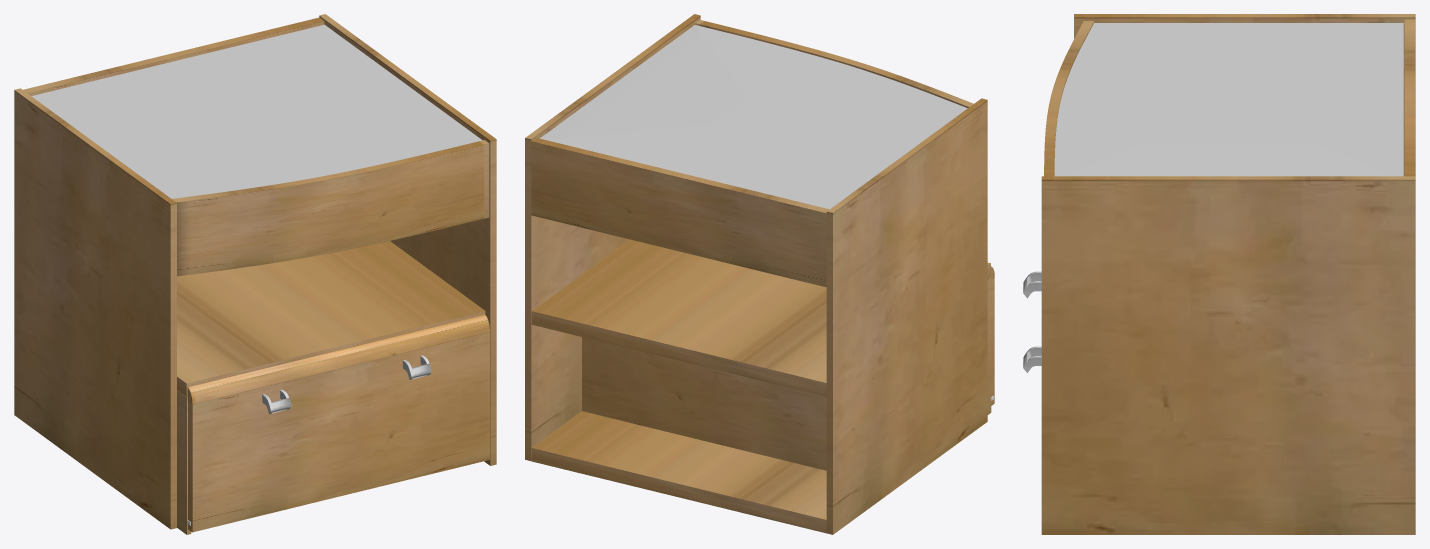
File: sh-contrib-table-basse.glb
3 renders of one model, left to right at view 1: azimuth 30°, elevation 25°; view 2: azimuth 150°, elevation 25°; view 3: azimuth 270°, elevation 25°, orthographic. The views are drawn at different scales.
Parts seen in each view (by area): view 1: Cube_1_1, Boolean_1_9, pOIGNEE_10; view 2: Cube_1_1, Boolean_1_9; view 3: Cube_1_1, Boolean_1_9, pOIGNEE_10.
Part boxes in pixels (x1,y1,x2,y2): Cube_1_1: (14,14,496,534); Boolean_1_9: (31,24,482,198); pOIGNEE_10: (262,355,431,414); Cube_1_1: (525,14,994,534); Boolean_1_9: (540,25,967,209); Cube_1_1: (1041,14,1415,534); Boolean_1_9: (1054,23,1403,176); pOIGNEE_10: (1023,271,1041,372).
Size of the model in its own units: 1 by 1 by 1.
Materials: 4 (2 with a texture image).
